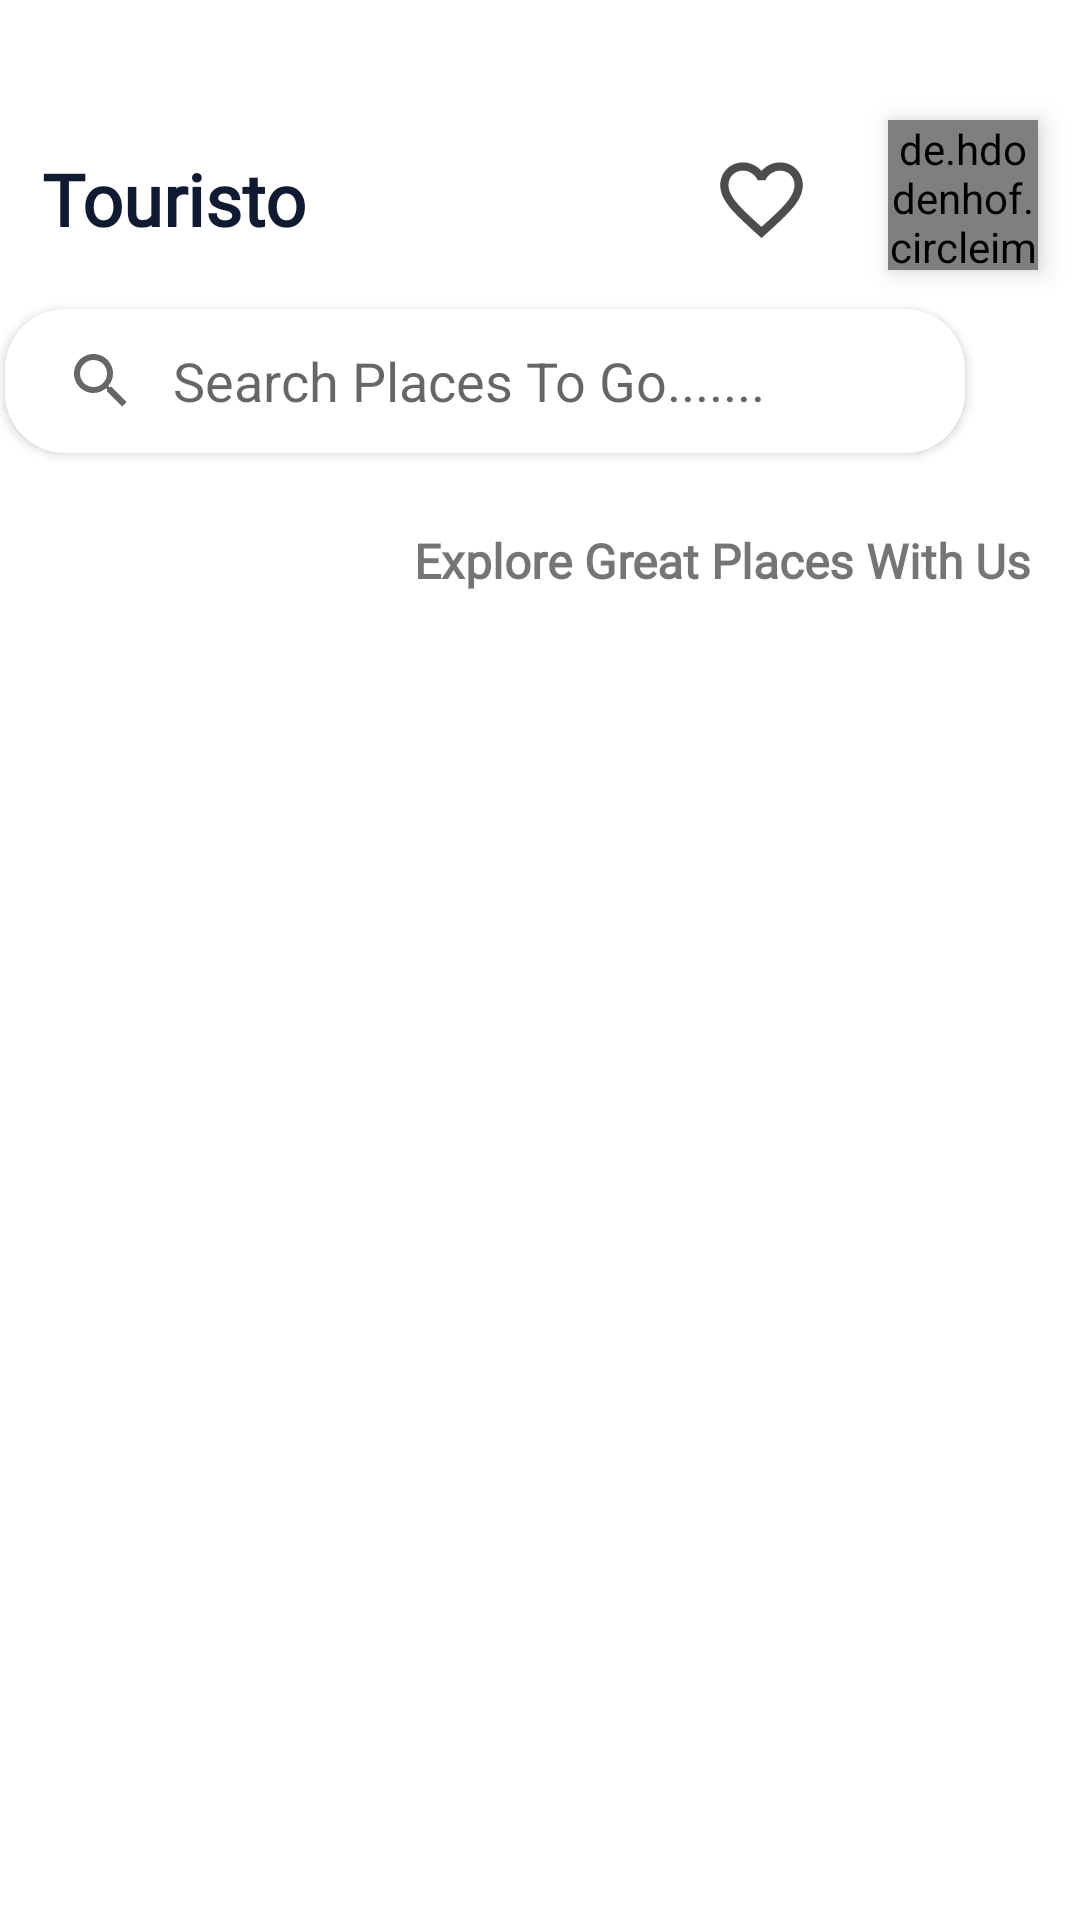

Where icons sit on this 1080w x 1920h app screen, as {"left": x1, "top": y1, "right": x2, "bottom": y2}:
favorite: {"left": 720, "top": 162, "right": 803, "bottom": 238}
